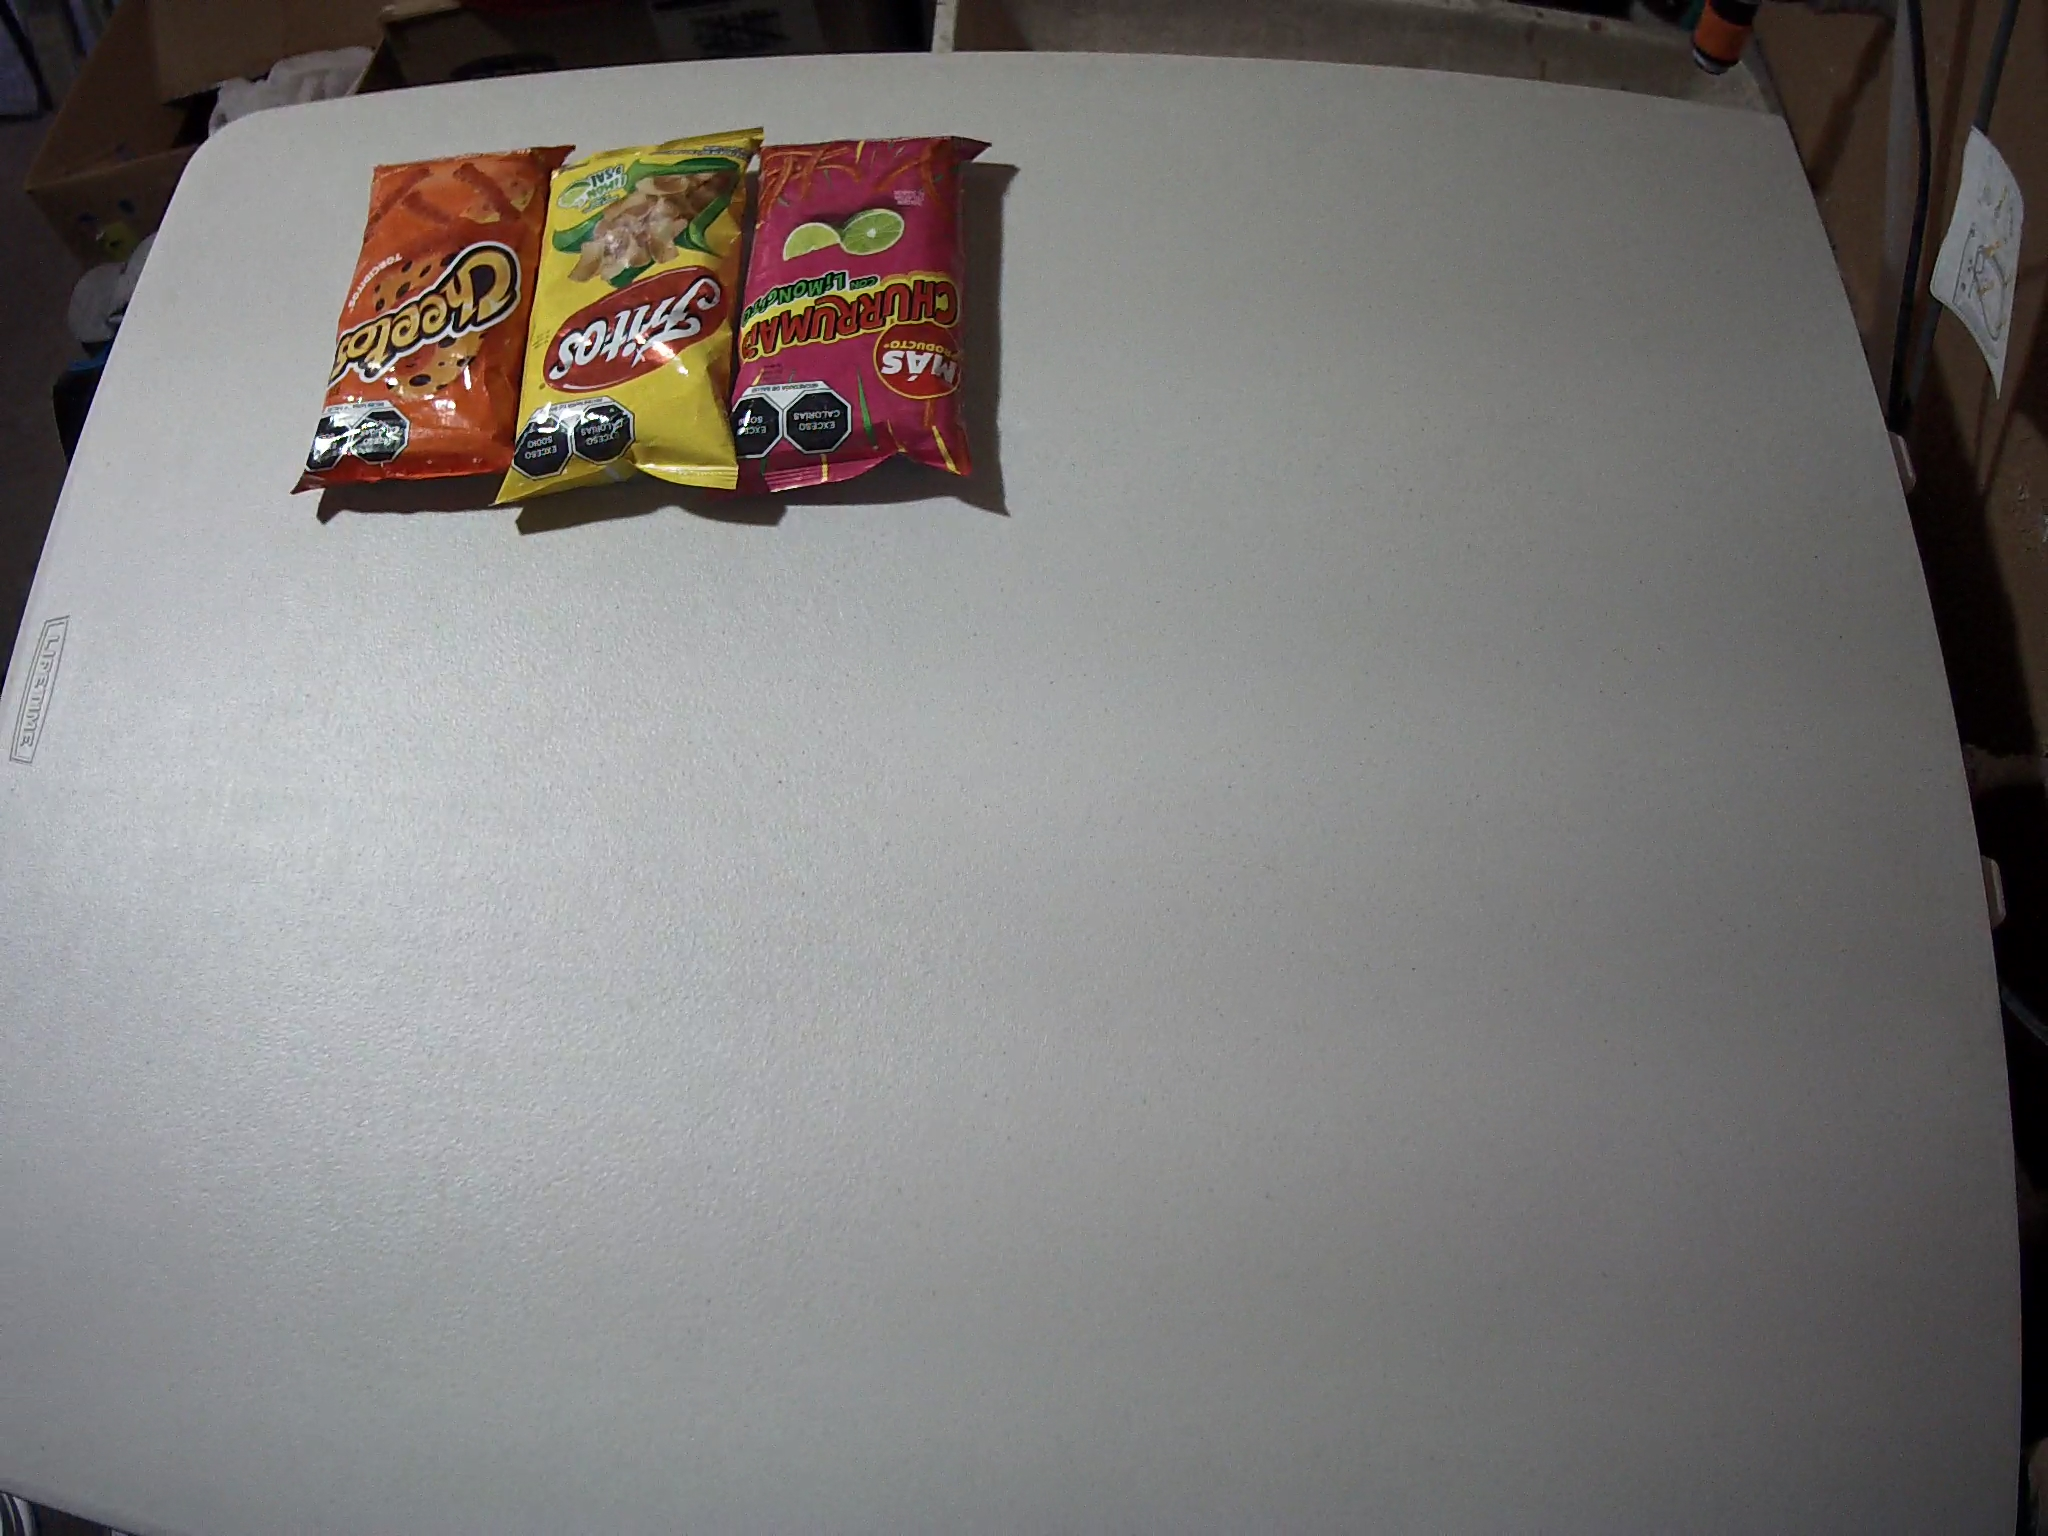CheetosTorciditos_55_F: (290, 144, 577, 490)
Churrumais_70_F: (732, 137, 997, 499)
FritosSalLimon_65_F: (493, 127, 764, 503)
